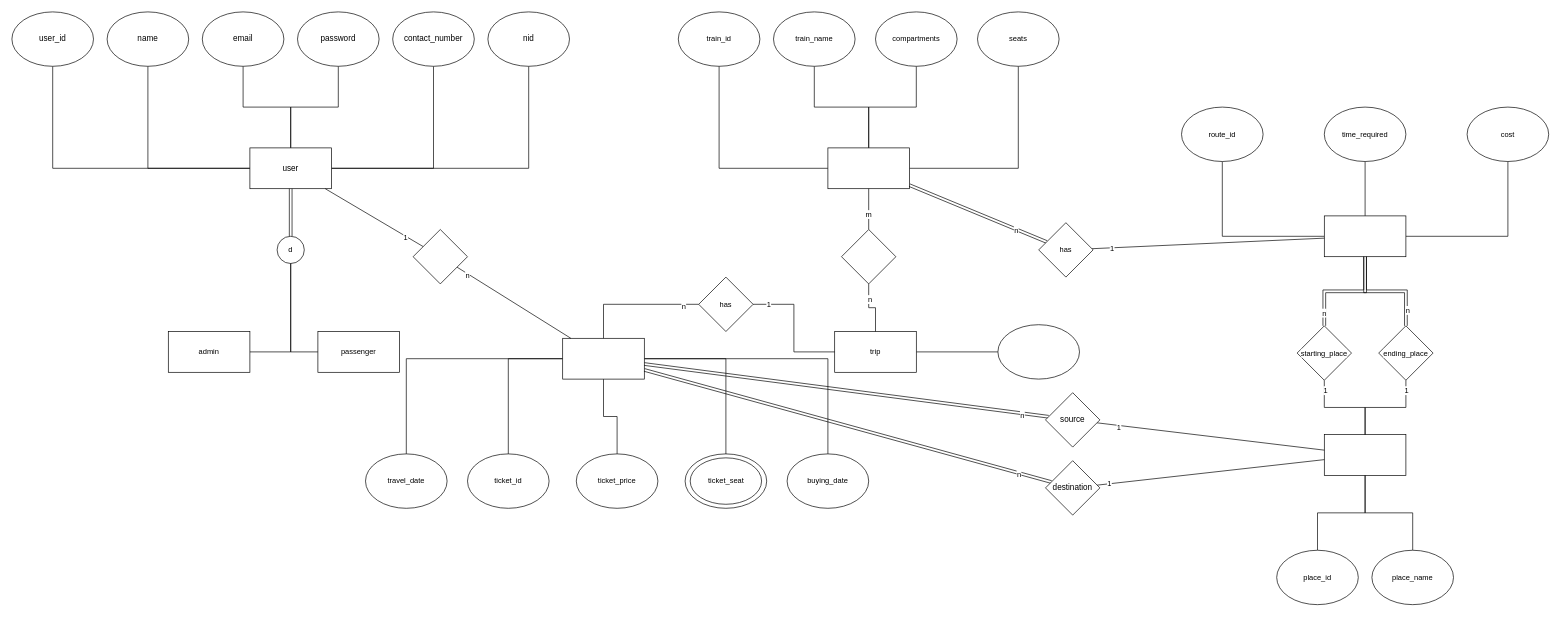
Image size: 1561x617. Some labels were removed from this diagram. Here are the shapes that lost their labels. From the top down, the centre of each, then its label:
(x=868, y=168): train
(x=440, y=256): buy
(x=868, y=256): does
(x=1365, y=236): routes
(x=603, y=358): ticket
(x=1038, y=351): trip_date
(x=1365, y=454): place
